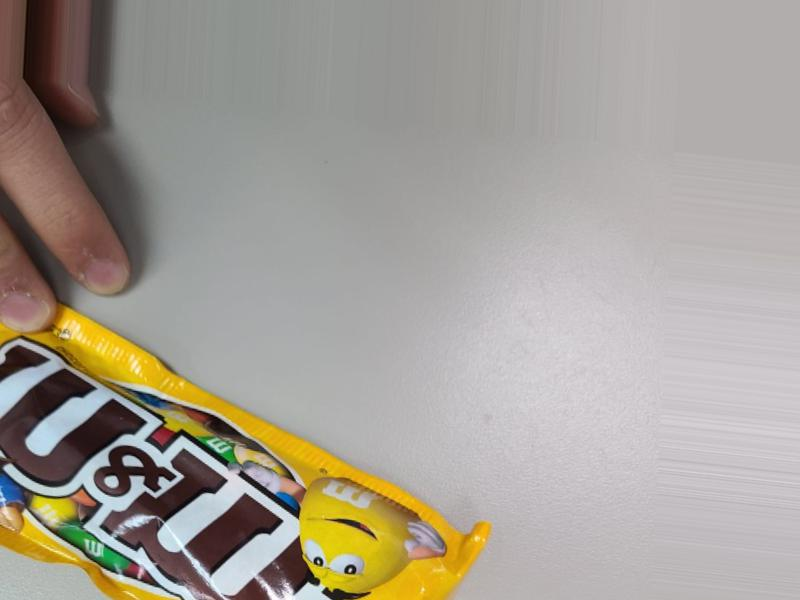m&m: (65, 289, 428, 573)
